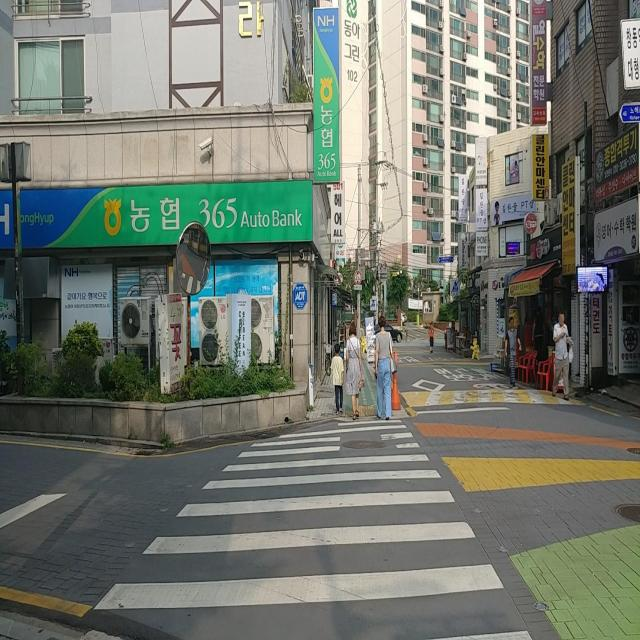횡단보도: (93, 416, 533, 640)
